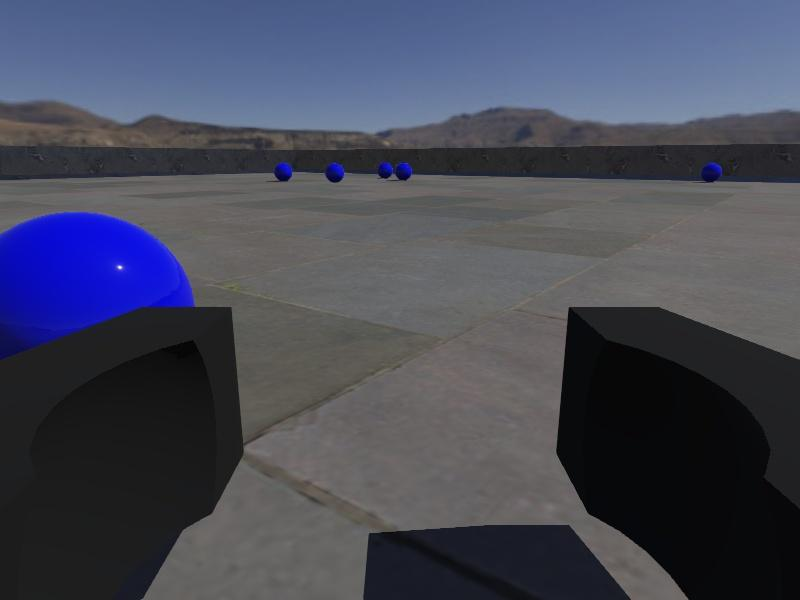blue ball: (701, 162, 722, 182), (325, 161, 345, 182), (274, 162, 293, 181), (395, 162, 413, 180), (377, 161, 393, 178)
